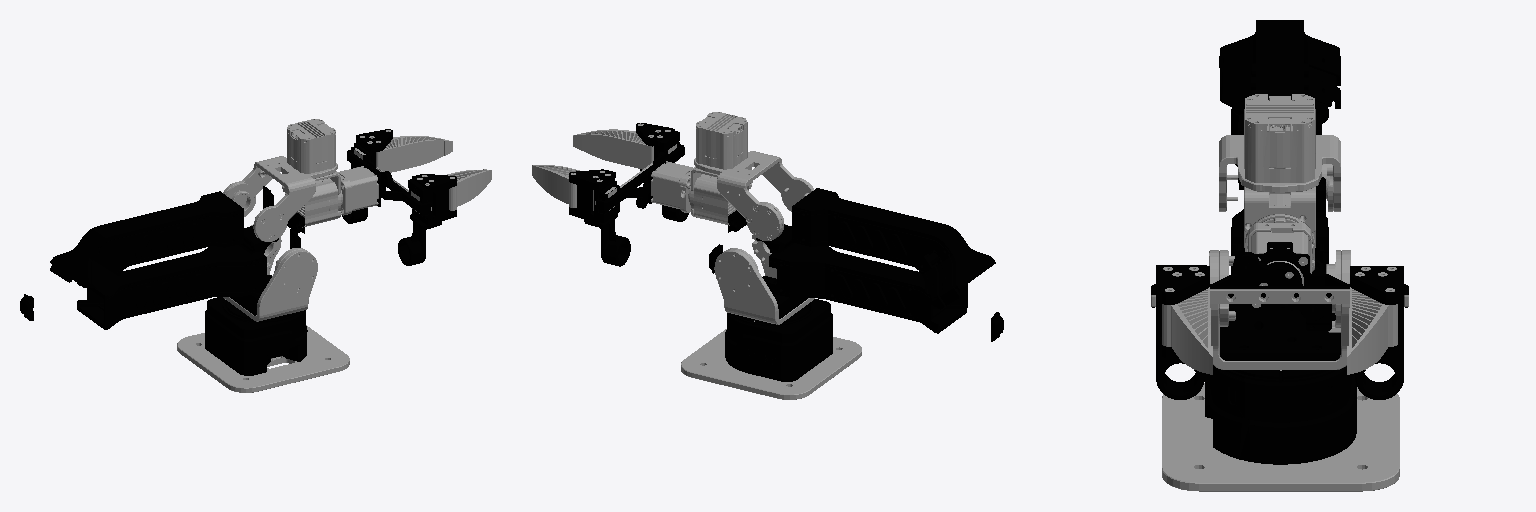
The robot description file, URDF, robot "Panthera-HT_description_V1.1.0":
<?xml version='1.0' encoding='utf-8'?>
<robot name="Panthera-HT_description_V1.1.0">
  <link name="base_link">
    <inertial>
      <origin xyz="-0.00199372 0.00013575 0.02313639" rpy="0 0 0" />
      <mass value="1.26174391" />
      <inertia ixx="0.00149111" ixy="-0.00000164" ixz="-0.00002283" iyy="0.00152128" iyz="0.00000664" izz="0.00208055" />
    </inertial>
    <collision>
      <origin xyz="0 0 0" rpy="0 0 0" />
      <geometry>
        <mesh filename="meshes/obj/base_link_collision.obj" />
      </geometry>
    </collision>
  <visual>
      <origin xyz="0 0 0" rpy="0 0 0" />
      <geometry>
        <mesh filename="meshes/obj/base_link_0.obj" />
      </geometry>
    <material name="base_link_0"><color rgba="0.011764705882352941 0.011764705882352941 0.011764705882352941 1.0" /></material></visual>
    <visual>
      <origin xyz="0 0 0" rpy="0 0 0" />
      <geometry>
        <mesh filename="meshes/obj/base_link_1.obj" />
      </geometry>
    <material name="base_link_1"><color rgba="0.6509803921568628 0.6509803921568628 0.6509803921568628 1.0" /></material></visual>
    </link>
  <link name="link1">
    <inertial>
      <origin xyz="0.00370227 -0.00052950 0.02551045" rpy="0 0 0" />
      <mass value="0.31947644" />
      <inertia ixx="0.00047321" ixy="0.00000161" ixz="-0.00004947" iyy="0.00026806" iyz="0.00000565" izz="0.00042904" />
    </inertial>
    <collision>
      <origin xyz="0 0 0" rpy="0 0 0" />
      <geometry>
        <mesh filename="meshes/obj/link1_collision.obj" />
      </geometry>
    </collision>
  <visual>
      <origin xyz="0 0 0" rpy="0 0 0" />
      <geometry>
        <mesh filename="meshes/obj/link1_0.obj" />
      </geometry>
    <material name="link1_0"><color rgba="0.011764705882352941 0.011764705882352941 0.011764705882352941 1.0" /></material></visual>
    <visual>
      <origin xyz="0 0 0" rpy="0 0 0" />
      <geometry>
        <mesh filename="meshes/obj/link1_1.obj" />
      </geometry>
    <material name="link1_1"><color rgba="0.6509803921568628 0.6509803921568628 0.6509803921568628 1.0" /></material></visual>
    </link>
  <joint name="joint1" type="revolute">
    <origin xyz="0 0 0.0584000000000033" rpy="0 0 0" />
    <parent link="base_link" />
    <child link="link1" />
    <axis xyz="0 0 1" />
    <limit lower="-2.705260340591" upper="2.705260340591" effort="21" velocity="7.853981633974" />
  </joint>
  <link name="link2">
    <inertial>
      <origin xyz="-0.12846526 -0.00246834 0.00013928" rpy="0 0 0" />
      <mass value="1.54644014" />
      <inertia ixx="0.00045720" ixy="-0.00000986" ixz="-0.00003775" iyy="0.02299130" iyz="-0.00000100" izz="0.02311093" />
    </inertial>
    <collision>
      <origin xyz="0 0 0" rpy="0 0 0" />
      <geometry>
        <mesh filename="meshes/obj/link2_collision.obj" />
      </geometry>
    </collision>
  <visual>
      <origin xyz="0 0 0" rpy="0 0 0" />
      <geometry>
        <mesh filename="meshes/obj/link2_0.obj" />
      </geometry>
    <material name="link2_0"><color rgba="0.011764705882352941 0.011764705882352941 0.011764705882352941 1.0" /></material></visual>
    <visual>
      <origin xyz="0 0 0" rpy="0 0 0" />
      <geometry>
        <mesh filename="meshes/obj/link2_1.obj" />
      </geometry>
    <material name="link2_1"><color rgba="0.6509803921568628 0.6509803921568628 0.6509803921568628 1.0" /></material></visual>
    </link>
  <joint name="joint2" type="revolute">
    <origin xyz="0.0181985117133034 0 0.0534999999999806" rpy="0 0 0" />
    <parent link="link1" />
    <child link="link2" />
    <axis xyz="0 1 0" />
    <limit lower="0.000000000000" upper="3.141592653590" effort="36" velocity="6.283185307180" />
  </joint>
  <link name="link3">
    <inertial>
      <origin xyz="0.15998653 -0.00127693 0.05180598" rpy="0 0 0" />
      <mass value="0.73843040" />
      <inertia ixx="0.00074253" ixy="0.00005334" ixz="-0.00093687" iyy="0.00637135" iyz="0.00000956" izz="0.00627135" />
    </inertial>
    <collision>
      <origin xyz="0 0 0" rpy="0 0 0" />
      <geometry>
        <mesh filename="meshes/obj/link3_collision.obj" />
      </geometry>
    </collision>
  <visual>
      <origin xyz="0 0 0" rpy="0 0 0" />
      <geometry>
        <mesh filename="meshes/obj/link3_0.obj" />
      </geometry>
    <material name="link3_0"><color rgba="0.011764705882352941 0.011764705882352941 0.011764705882352941 1.0" /></material></visual>
    <visual>
      <origin xyz="0 0 0" rpy="0 0 0" />
      <geometry>
        <mesh filename="meshes/obj/link3_1.obj" />
      </geometry>
    <material name="link3_1"><color rgba="0.6509803921568628 0.6509803921568628 0.6509803921568628 1.0" /></material></visual>
    </link>
  <joint name="joint3" type="revolute">
    <origin xyz="-0.259999999999987 0 0" rpy="0 0 0" />
    <parent link="link2" />
    <child link="link3" />
    <axis xyz="0 -1 0" />
    <limit lower="0.0" upper="4.2" effort="36" velocity="6.283185307180" />
  </joint>
  <link name="link4">
    <inertial>
      <origin xyz="0.05302276 -0.00088874 0.04176746" rpy="0 0 0" />
      <mass value="0.30" />
      <inertia ixx="0.00029159" ixy="-0.00000962" ixz="-0.00019916" iyy="0.00045145" iyz="-0.00000775" izz="0.00039654" />
    </inertial>
    <collision>
      <origin xyz="0 0 0" rpy="0 0 0" />
      <geometry>
        <mesh filename="meshes/obj/link4_collision.obj" />
      </geometry>
    </collision>
  <visual>
      <origin xyz="0 0 0" rpy="0 0 0" />
      <geometry>
        <mesh filename="meshes/obj/link4_0.obj" />
      </geometry>
    <material name="link4_0"><color rgba="0.6509803921568628 0.6509803921568628 0.6509803921568628 1.0" /></material></visual>
    </link>
  <joint name="joint4" type="revolute">
    <origin xyz="0.230000000000164 0 0.0599999999994667" rpy="0 0 0" />
    <parent link="link3" />
    <child link="link4" />
    <axis xyz="0 -1 0" />
    <limit lower="-1.570796326795" upper="1.570796326795" effort="21" velocity="7.853981633974" />
  </joint>
  <link name="link5">
    <inertial>
      <origin xyz="0.00389691 -0.00007055 -0.03465562" rpy="0 0 0" />
      <mass value="0.27262012" />
      <inertia ixx="0.00004614" ixy="0.00000003" ixz="0.00000376" iyy="0.00005344" iyz="-0.00000012" izz="0.00003117" />
    </inertial>
    <collision>
      <origin xyz="0 0 0" rpy="0 0 0" />
      <geometry>
        <mesh filename="meshes/obj/link5_collision.obj" />
      </geometry>
    </collision>
  <visual>
      <origin xyz="0 0 0" rpy="0 0 0" />
      <geometry>
        <mesh filename="meshes/obj/link5_0.obj" />
      </geometry>
    <material name="link5_0"><color rgba="0.011764705882352941 0.011764705882352941 0.011764705882352941 1.0" /></material></visual>
    <visual>
      <origin xyz="0 0 0" rpy="0 0 0" />
      <geometry>
        <mesh filename="meshes/obj/link5_1.obj" />
      </geometry>
    <material name="link5_1"><color rgba="0.6509803921568628 0.6509803921568628 0.6509803921568628 1.0" /></material></visual>
    </link>
  <joint name="joint5" type="revolute">
    <origin xyz="0.0699999999999991 -0.000450862561756094 0.034989137438241" rpy="0 0 0" />
    <parent link="link4" />
    <child link="link5" />
    <axis xyz="0 0 -1" />
    <limit lower="-1.745329251994" upper="1.745329251994" effort="10" velocity="16.755160819146" />
  </joint>
  <link name="link6">
    <inertial>
      <origin xyz="0.00246634 0.00000000 0.00064746" rpy="0 0 0" />
      <mass value="0.00918329" />
      <inertia ixx="0.00000119" ixy="0.00000000" ixz="0.00000000" iyy="0.00000066" iyz="0.00000000" izz="0.00000056" />
    </inertial>
    <collision>
      <origin xyz="0 0 0" rpy="0 0 0" />
      <geometry>
        <mesh filename="meshes/obj/link6_collision.obj" />
      </geometry>
    </collision>
  <visual>
      <origin xyz="0 0 0" rpy="0 0 0" />
      <geometry>
        <mesh filename="meshes/obj/link6_0.obj" />
      </geometry>
    <material name="link6_0"><color rgba="0.6509803921568628 0.6509803921568628 0.6509803921568628 1.0" /></material></visual>
    </link>
  <joint name="joint6" type="revolute">
    <origin xyz="0.0249500000000002 0 -0.0374999999999997" rpy="0 0 0" />
    <parent link="link5" />
    <child link="link6" />
    <axis xyz="1 0 0" />
    <limit lower="-2.792526803191" upper="2.792526803191" effort="10" velocity="16.755160819146" />
  </joint>
  <link name="gripper_center_link">
    <inertial>
      <origin xyz="-0.12885290 -0.00009129 0.00013244" rpy="0 0 0" />
      <mass value="0.22" />
      <inertia ixx="0.00009261" ixy="-0.00000021" ixz="-0.00000020" iyy="0.00006874" iyz="0.00000211" izz="0.00014258" />
    </inertial>
    <collision>
      <origin xyz="0 0 0" rpy="0 0 0" />
      <geometry>
        <mesh filename="meshes/obj/gripper_center_link_collision.obj" />
      </geometry>
    </collision>
  <visual>
      <origin xyz="0 0 0" rpy="0 0 0" />
      <geometry>
        <mesh filename="meshes/obj/gripper_center_link_0.obj" />
      </geometry>
    <material name="gripper_center_link_0"><color rgba="0.011764705882352941 0.011764705882352941 0.011764705882352941 1.0" /></material></visual>
    <visual>
      <origin xyz="0 0 0" rpy="0 0 0" />
      <geometry>
        <mesh filename="meshes/obj/gripper_center_link_1.obj" />
      </geometry>
    <material name="gripper_center_link_1"><color rgba="0.6509803921568628 0.6509803921568628 0.6509803921568628 1.0" /></material></visual>
    </link>
  <joint name="gripper_center_joint" type="fixed">
    <origin xyz="0.16605080437572 0 0" rpy="0 0 0" />
    <parent link="link6" />
    <child link="gripper_center_link" />
    <axis xyz="0 0 0" />
  </joint>
  <link name="gripper_L_link">
    <inertial>
      <origin xyz="-0.07797460 0.01840237 -0.00665317" rpy="0 0 0" />
      <mass value="0.08" />
      <inertia ixx="0.00004090" ixy="0.00000477" ixz="-0.00001332" iyy="0.00007435" iyz="0.00000129" izz="0.00004854" />
    </inertial>
    <collision>
      <origin xyz="0 0 0" rpy="0 0 0" />
      <geometry>
        <mesh filename="meshes/obj/gripper_L_link_collision.obj" />
      </geometry>
    </collision>
  <visual>
      <origin xyz="0 0 0" rpy="0 0 0" />
      <geometry>
        <mesh filename="meshes/obj/gripper_L_link_0.obj" />
      </geometry>
    <material name="gripper_L_link_0"><color rgba="0.011764705882352941 0.011764705882352941 0.011764705882352941 1.0" /></material></visual>
    <visual>
      <origin xyz="0 0 0" rpy="0 0 0" />
      <geometry>
        <mesh filename="meshes/obj/gripper_L_link_1.obj" />
      </geometry>
    <material name="gripper_L_link_1"><color rgba="0.6509803921568628 0.6509803921568628 0.6509803921568628 1.0" /></material></visual>
    </link>

  <joint name="gripper_L_joint" type="fixed">
  
    <origin xyz="-0.000333779823793873 0.041000000000008 0" rpy="0 0 0" />
    <parent link="gripper_center_link" />
    <child link="gripper_L_link" />
    <axis xyz="0 1 0" />
    <limit lower="-0.041" upper="0" effort="0" velocity="0" />
  </joint>
  <link name="gripper_R_link">
    <inertial>
      <origin xyz="-0.07802870 -0.01828789 -0.00538878" rpy="0 0 0" />
      <mass value="0.08" />
      <inertia ixx="0.00004237" ixy="-0.00000481" ixz="-0.00001088" iyy="0.00007575" iyz="-0.00000116" izz="0.00004852" />
    </inertial>
    <collision>
      <origin xyz="0 0 0" rpy="0 0 0" />
      <geometry>
        <mesh filename="meshes/obj/gripper_R_link_collision.obj" />
      </geometry>
    </collision>
  <visual>
      <origin xyz="0 0 0" rpy="0 0 0" />
      <geometry>
        <mesh filename="meshes/obj/gripper_R_link_0.obj" />
      </geometry>
    <material name="gripper_R_link_0"><color rgba="0.011764705882352941 0.011764705882352941 0.011764705882352941 1.0" /></material></visual>
    <visual>
      <origin xyz="0 0 0" rpy="0 0 0" />
      <geometry>
        <mesh filename="meshes/obj/gripper_R_link_1.obj" />
      </geometry>
    <material name="gripper_R_link_1"><color rgba="0.6509803921568628 0.6509803921568628 0.6509803921568628 1.0" /></material></visual>
    </link>
  <joint name="gripper_R_joint" type="fixed">
  
    <origin xyz="-0.000333779823800812 -0.0409999999999889 0" rpy="0 0 0" />
    <parent link="gripper_center_link" />
    <child link="gripper_R_link" />
    <axis xyz="0 1 0" />
    <limit lower="0" upper="0.041" effort="0" velocity="0" />
    
  </joint>
  
<mujoco><compiler discardvisual="false" fusestatic="false" strippath="false" /></mujoco></robot>

--- Facts derived from the render (not from the file) ---
3 views of the same robot in one strip: view 1: azimuth 30°, elevation 25°; view 2: azimuth 150°, elevation 25°; view 3: azimuth 270°, elevation 25° (orthographic).
Robot: Panthera-HT_description_V1.1.0 — 10 links, 9 joints (6 revolute, 3 fixed); root link base_link; default pose: every joint at zero.
Visible links, largest first — view 1: base_link, link3, link2, link4, link1, gripper_R_link, gripper_L_link, gripper_center_link, link5; view 2: base_link, link3, link2, link4, link1, gripper_L_link, gripper_R_link, gripper_center_link, link5; view 3: base_link, link1, link4, link3, gripper_center_link, gripper_R_link, gripper_L_link, link5, link2.
Link boxes in pixels (x1=…): base_link: x1=177, y1=297, x2=349, y2=392; link3: x1=50, y1=186, x2=273, y2=296; link2: x1=20, y1=225, x2=300, y2=329; link4: x1=223, y1=119, x2=337, y2=241; link1: x1=223, y1=224, x2=317, y2=321; gripper_R_link: x1=398, y1=169, x2=491, y2=265; gripper_L_link: x1=342, y1=129, x2=452, y2=223; gripper_center_link: x1=336, y1=150, x2=431, y2=215; link5: x1=282, y1=172, x2=341, y2=233; base_link: x1=681, y1=299, x2=861, y2=399; link3: x1=741, y1=188, x2=995, y2=309; link2: x1=709, y1=224, x2=1003, y2=341; link4: x1=694, y1=112, x2=813, y2=240; link1: x1=714, y1=224, x2=814, y2=324; gripper_L_link: x1=532, y1=165, x2=630, y2=266; gripper_R_link: x1=573, y1=123, x2=688, y2=221; gripper_center_link: x1=595, y1=144, x2=695, y2=212; link5: x1=690, y1=168, x2=751, y2=232; base_link: x1=1162, y1=365, x2=1399, y2=491; link1: x1=1209, y1=250, x2=1350, y2=382; link4: x1=1219, y1=94, x2=1340, y2=211; link3: x1=1219, y1=20, x2=1340, y2=217; gripper_center_link: x1=1151, y1=223, x2=1408, y2=320; gripper_R_link: x1=1156, y1=265, x2=1212, y2=399; gripper_L_link: x1=1347, y1=266, x2=1403, y2=399; link5: x1=1244, y1=187, x2=1315, y2=271; link2: x1=1231, y1=102, x2=1331, y2=330.
Size in the robot's own frame: 0.533 by 0.158 by 0.2518 metres.
16 mesh visuals loaded from 18 distinct referenced files (16 OBJ); not drawn: 2 (reference not matched to a file when rendering).
